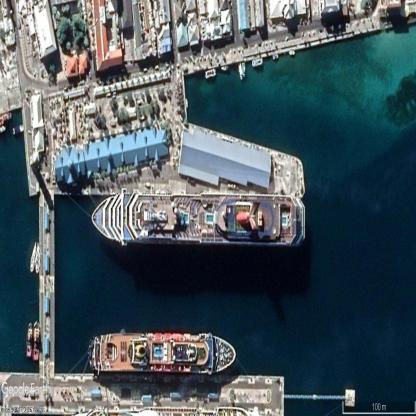ship: (92, 196, 305, 245), (85, 334, 236, 372), (31, 321, 40, 361), (26, 322, 32, 358), (30, 242, 36, 271), (35, 243, 40, 273), (205, 69, 216, 79), (252, 58, 263, 67), (242, 62, 245, 78), (185, 98, 188, 108), (289, 51, 295, 55), (221, 67, 228, 70)
